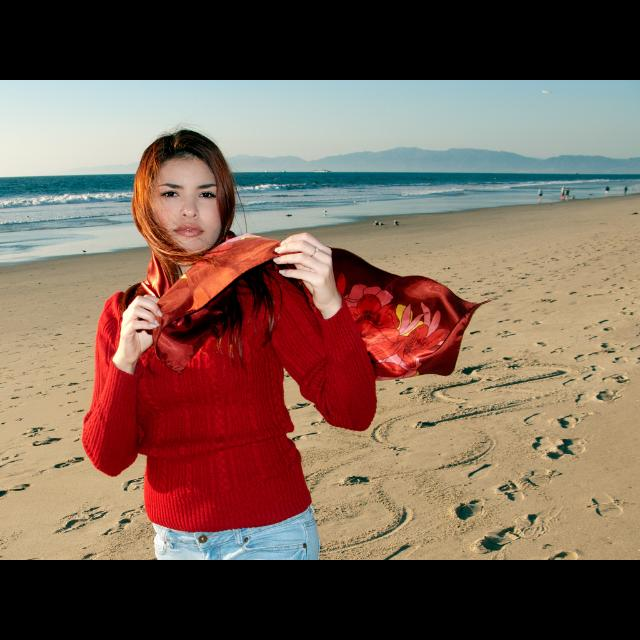Flower: (366, 322, 448, 364)
